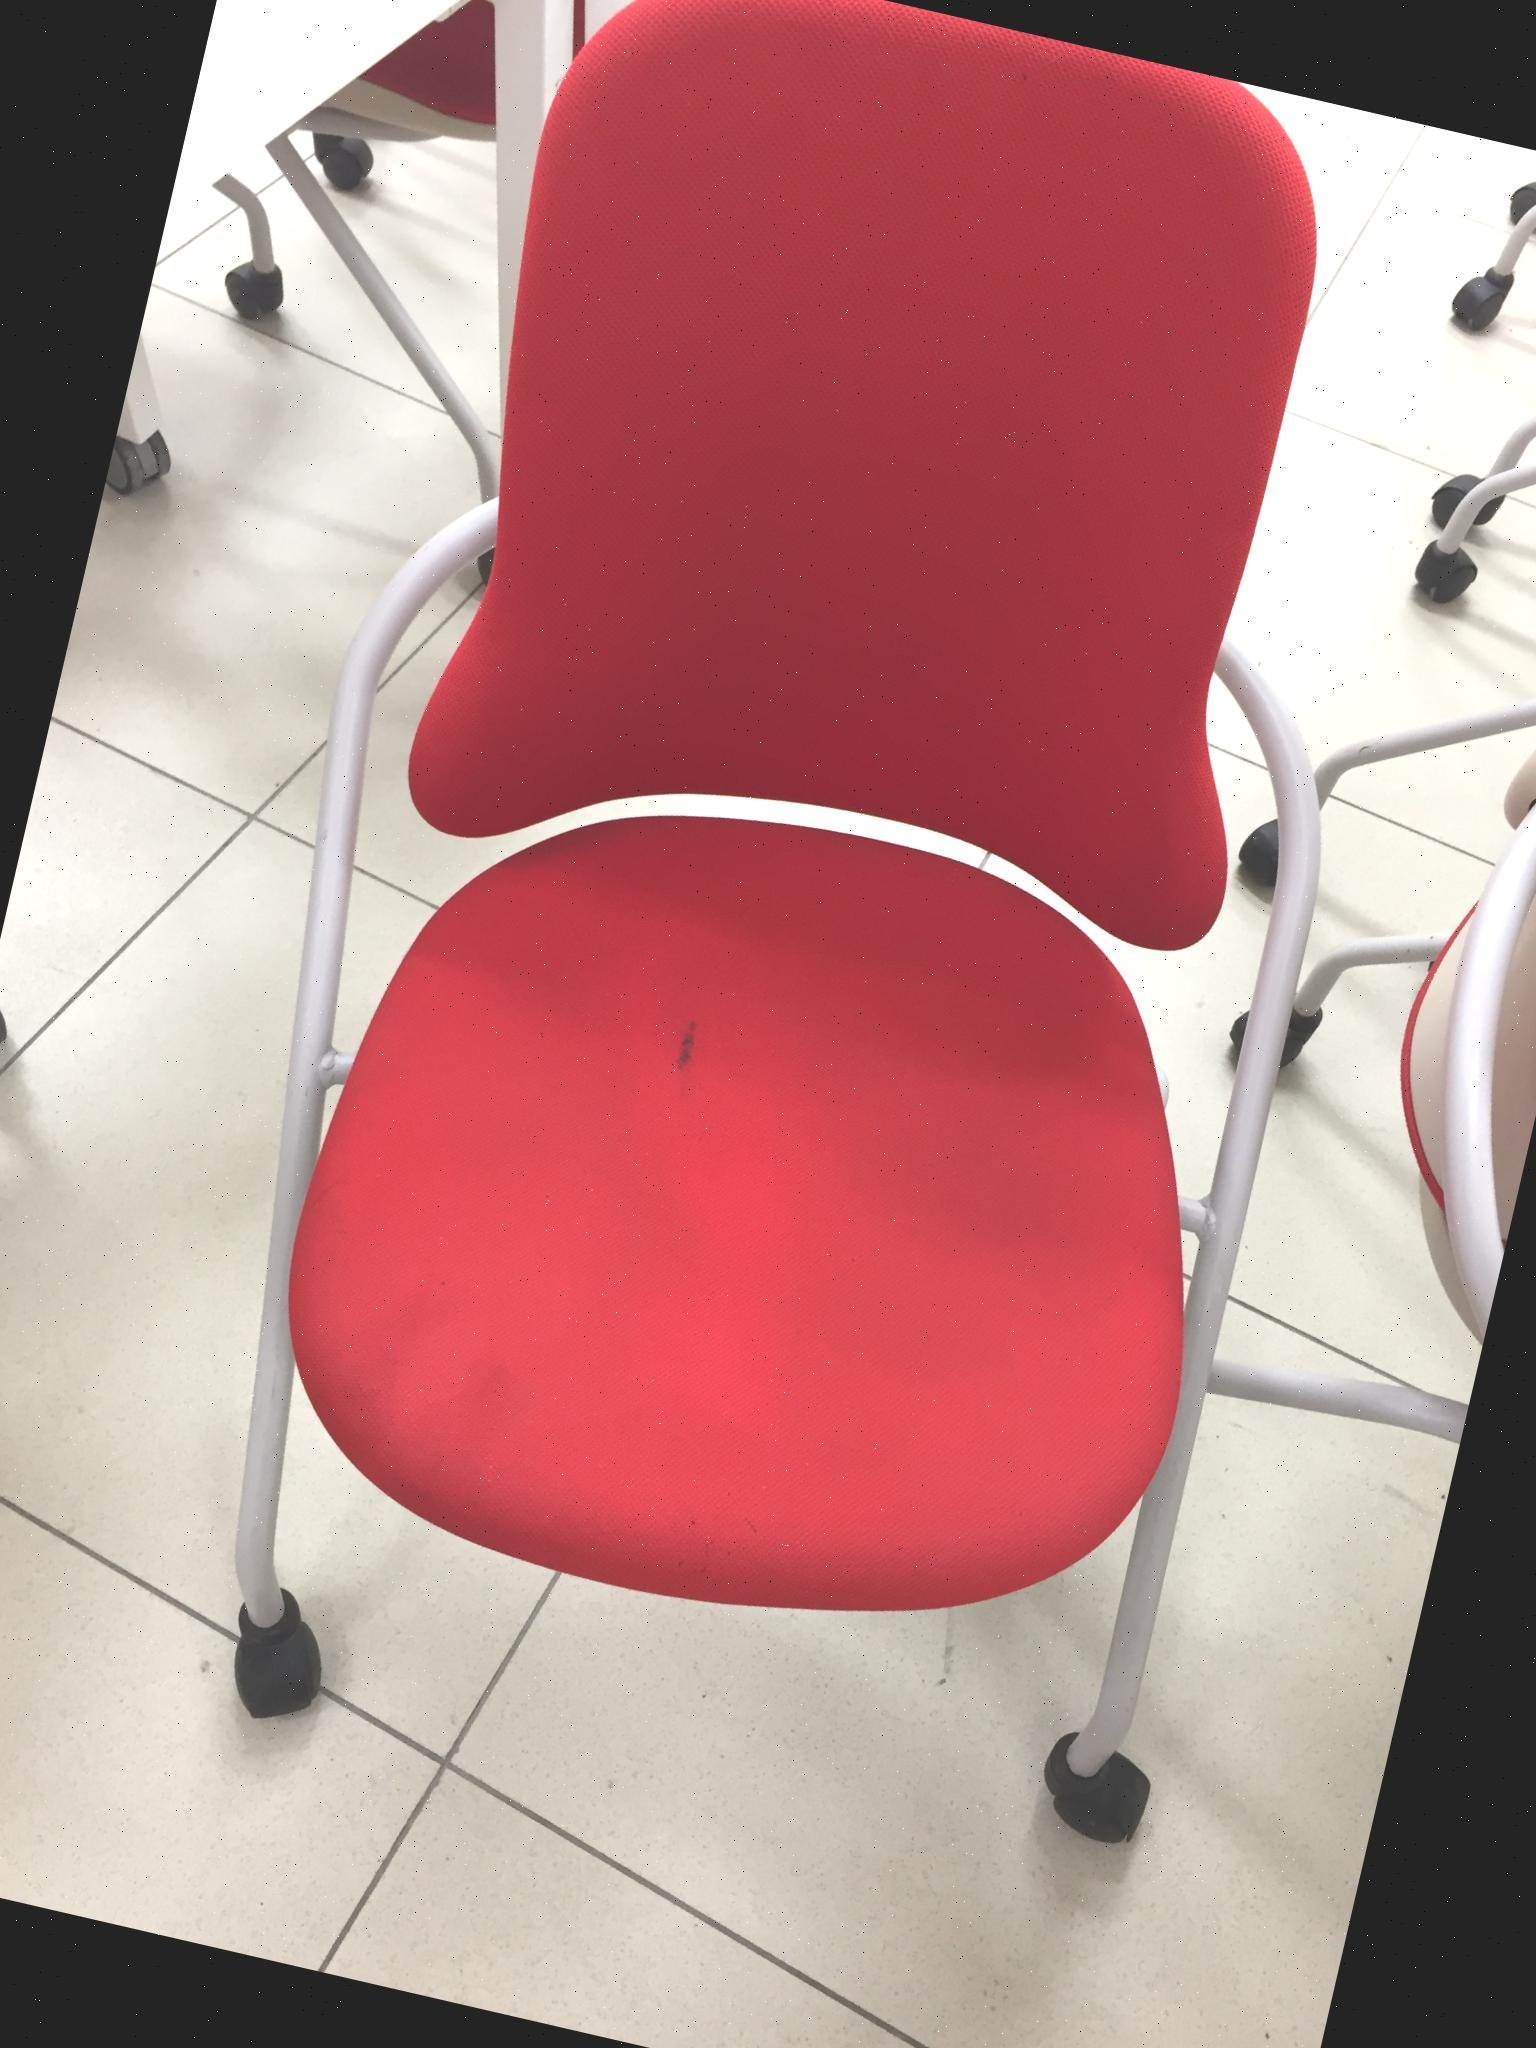chair: (105, 0, 1526, 1916), (1149, 550, 1536, 1421), (200, 0, 750, 245), (1354, 127, 1536, 563)
